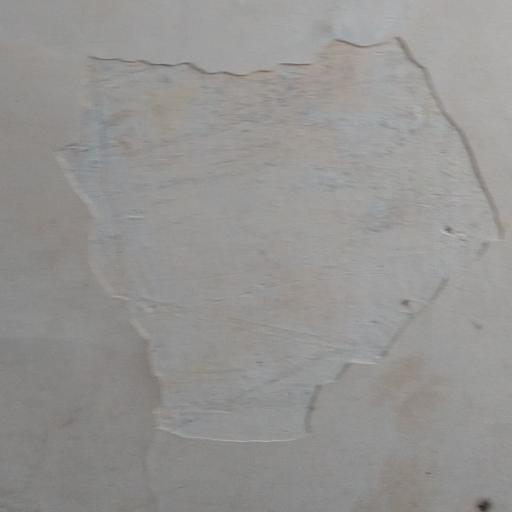peeling: (50, 27, 512, 443)
